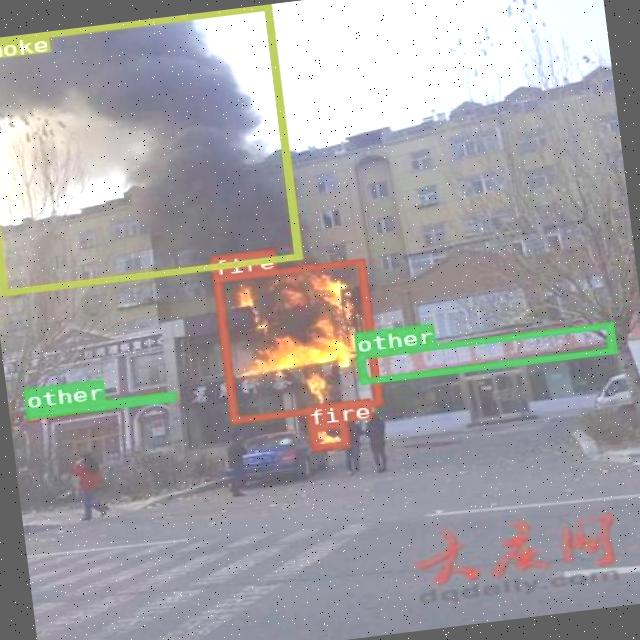fire: (210, 257, 380, 422), (307, 422, 348, 449)
smoke: (0, 4, 301, 294)
